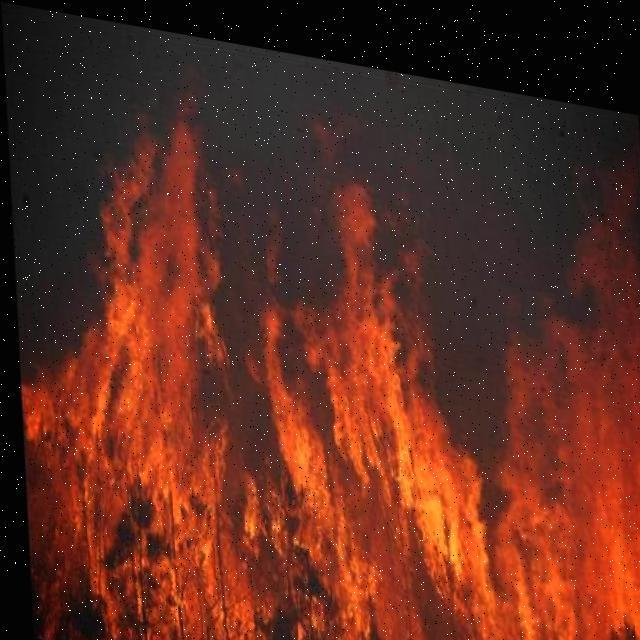Fire: (5, 61, 639, 639)
